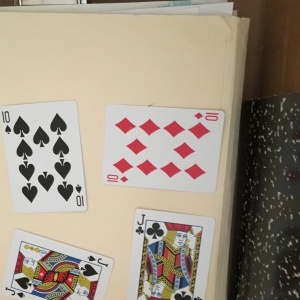card: (103, 104, 223, 196)
